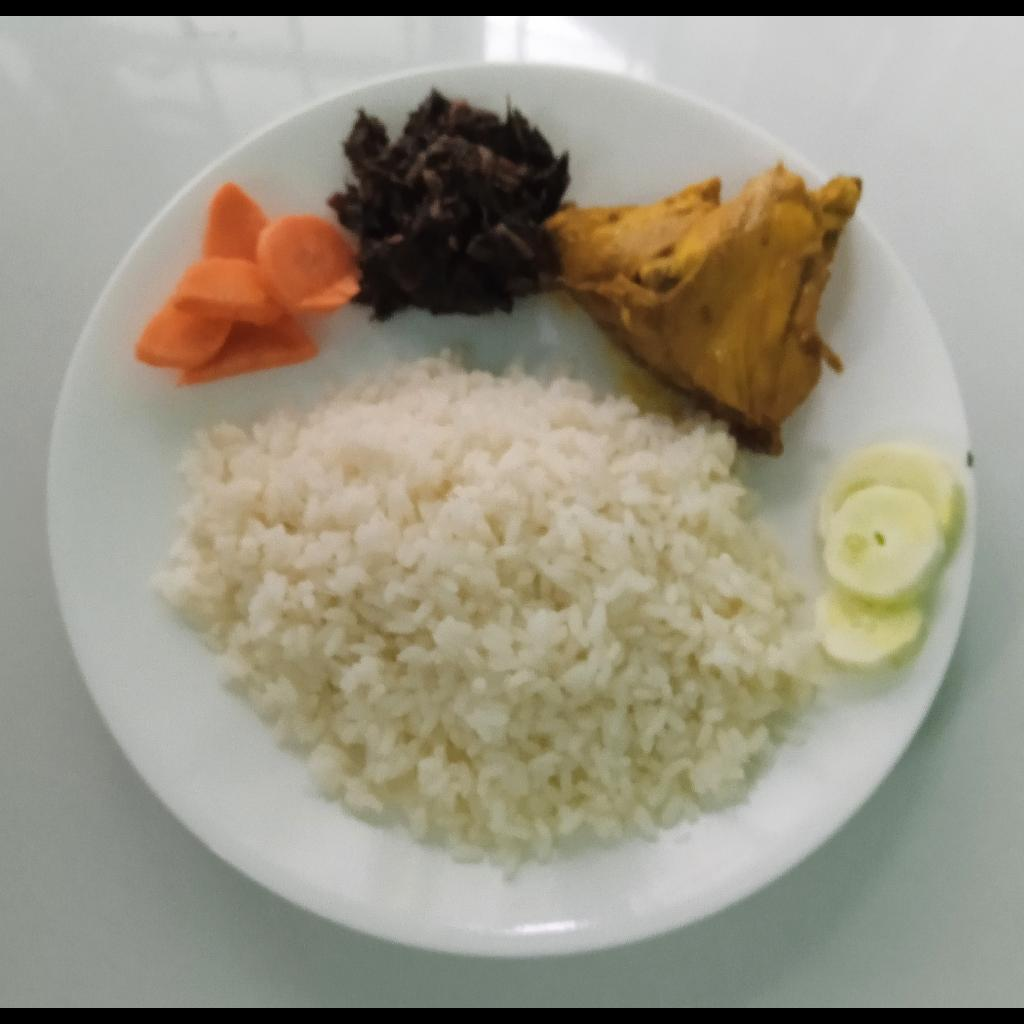carrot: (132, 181, 359, 388)
chicken: (546, 157, 862, 458)
cucumber: (814, 442, 960, 675)
lal-shak: (327, 84, 567, 323)
rice: (146, 341, 815, 876)
